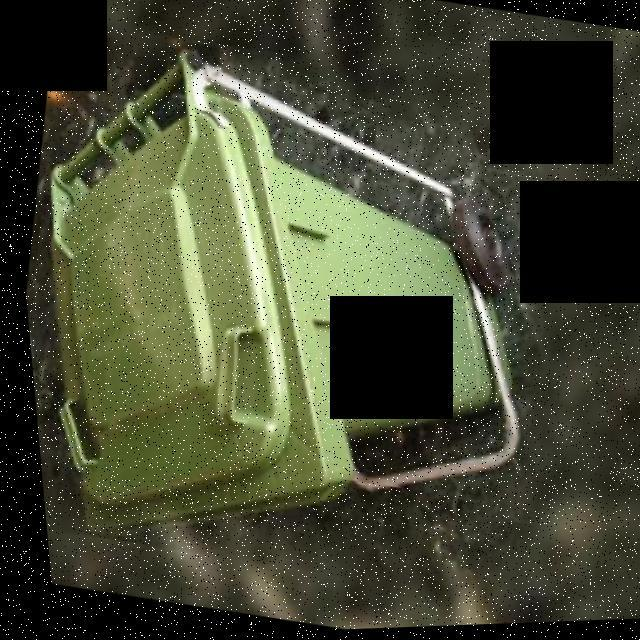bin: (2, 8, 614, 638)
